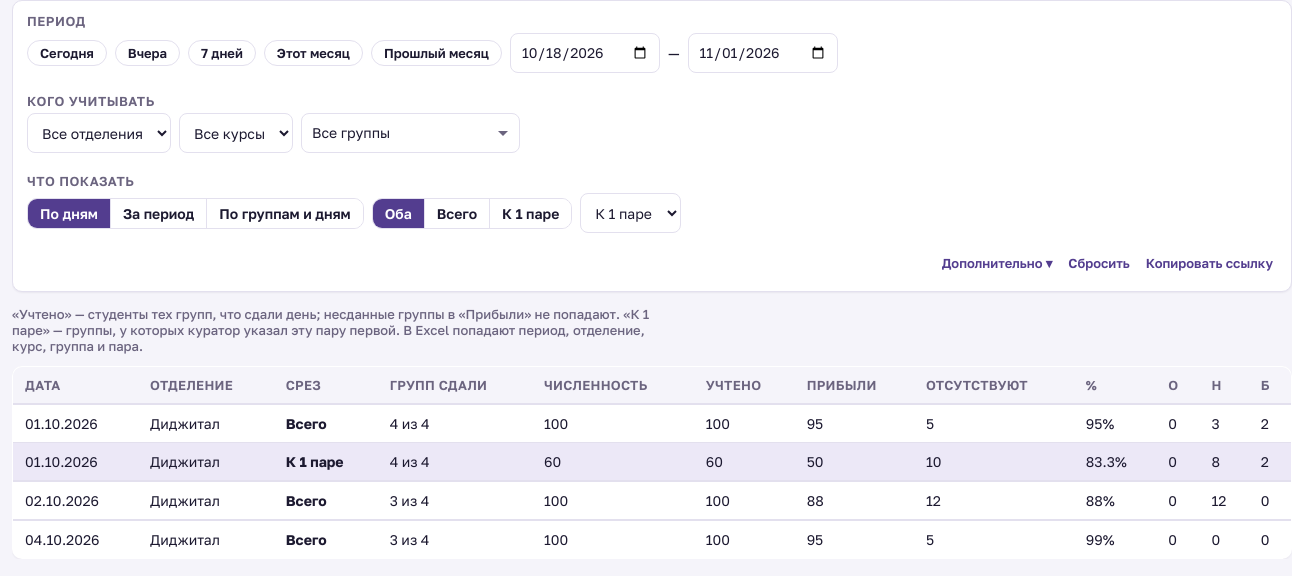
AttendanceSummaryView — «За период» и «По группам и дням» › за период: строки без даты, подпись про студенто-дни
This screenshot has width=1292, height=576.
What coordinates should you click on to do the following:
click the button "За период"
I would click on:
 (158, 213)
Its box is [110, 198, 206, 228].
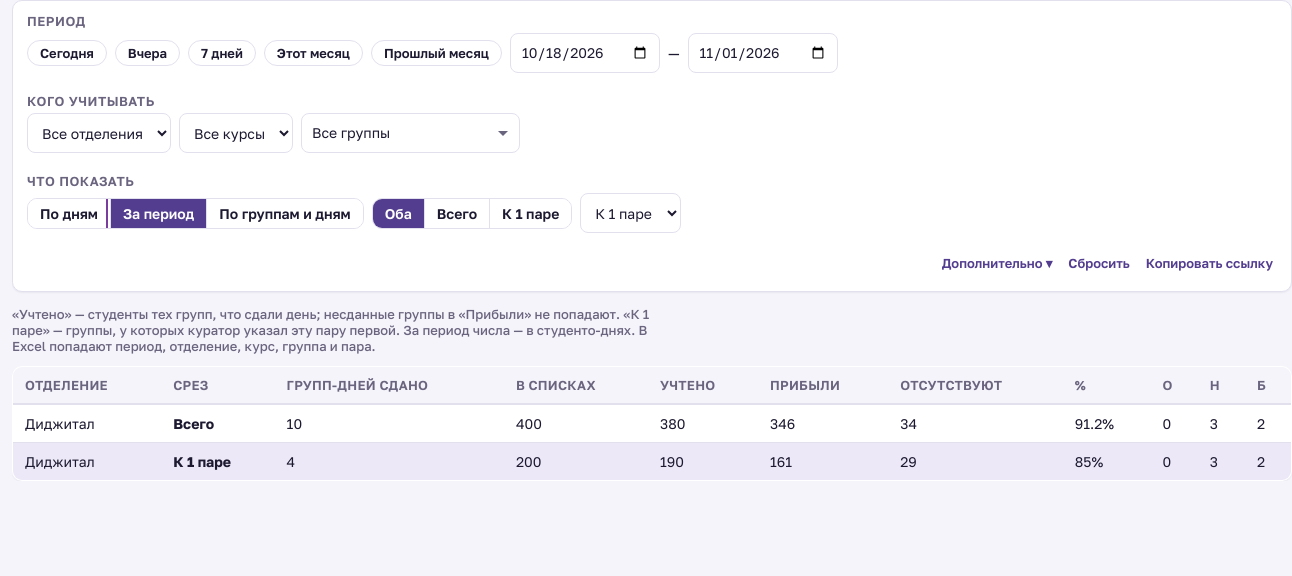
Now the text "91.2%" is shown, box [1063, 404, 1150, 442]
Now the text "в студенто-днях" is shown, box [400, 322, 635, 338]
Now the column heading "Групп-дней сдано" is shown, box [275, 366, 504, 404]
